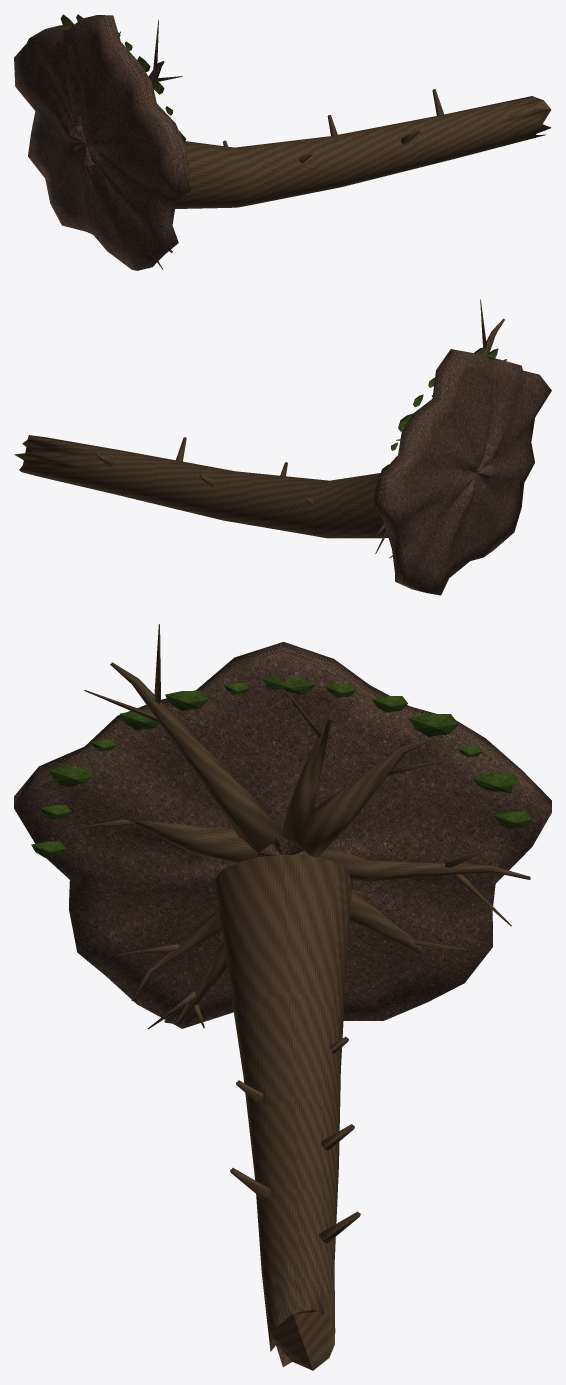
The model's file is SS_WindthrowBase_Weathered_01_LOD0.fbx.
3 views of the same model, one above another, from view 1: azimuth 30°, elevation 25°; view 2: azimuth 150°, elevation 25°; view 3: azimuth 270°, elevation 25° (orthographic). The views are drawn at different scales.
Parts seen in each view (by area): view 1: SS_WindthrowBase_Weathered_01_LOD0_Structure; view 2: SS_WindthrowBase_Weathered_01_LOD0_Structure; view 3: SS_WindthrowBase_Weathered_01_LOD0_Structure.
Boxes of the visible parts, x1,y1,x2,y2 form: SS_WindthrowBase_Weathered_01_LOD0_Structure: (14,14,551,270); SS_WindthrowBase_Weathered_01_LOD0_Structure: (14,299,551,595); SS_WindthrowBase_Weathered_01_LOD0_Structure: (14,624,551,1370).
Bounding box in the file's own units: 557 × 285 × 340.
